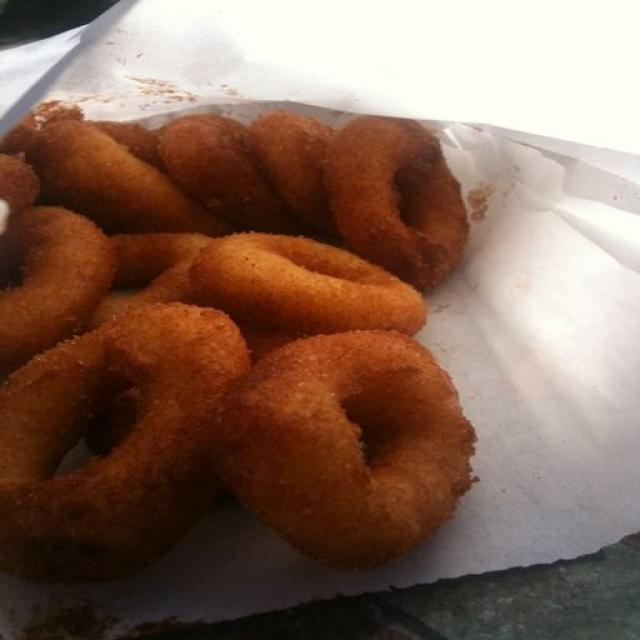Donuts: (5, 106, 513, 585)
